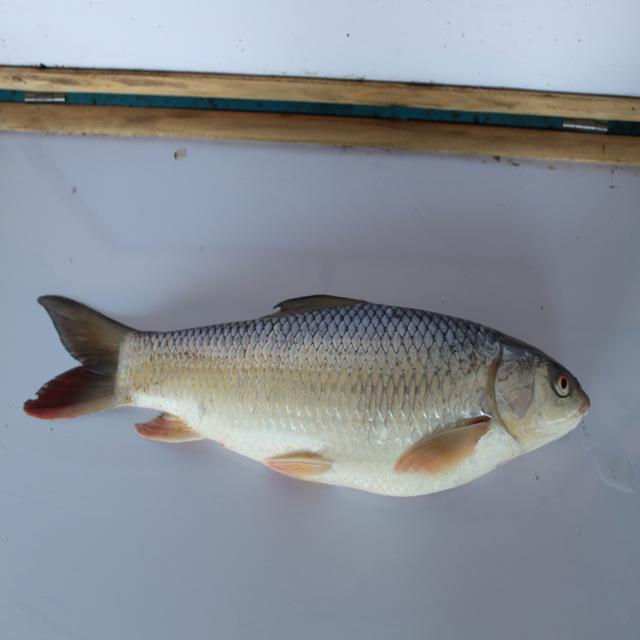Mori: (24, 263, 612, 519)
